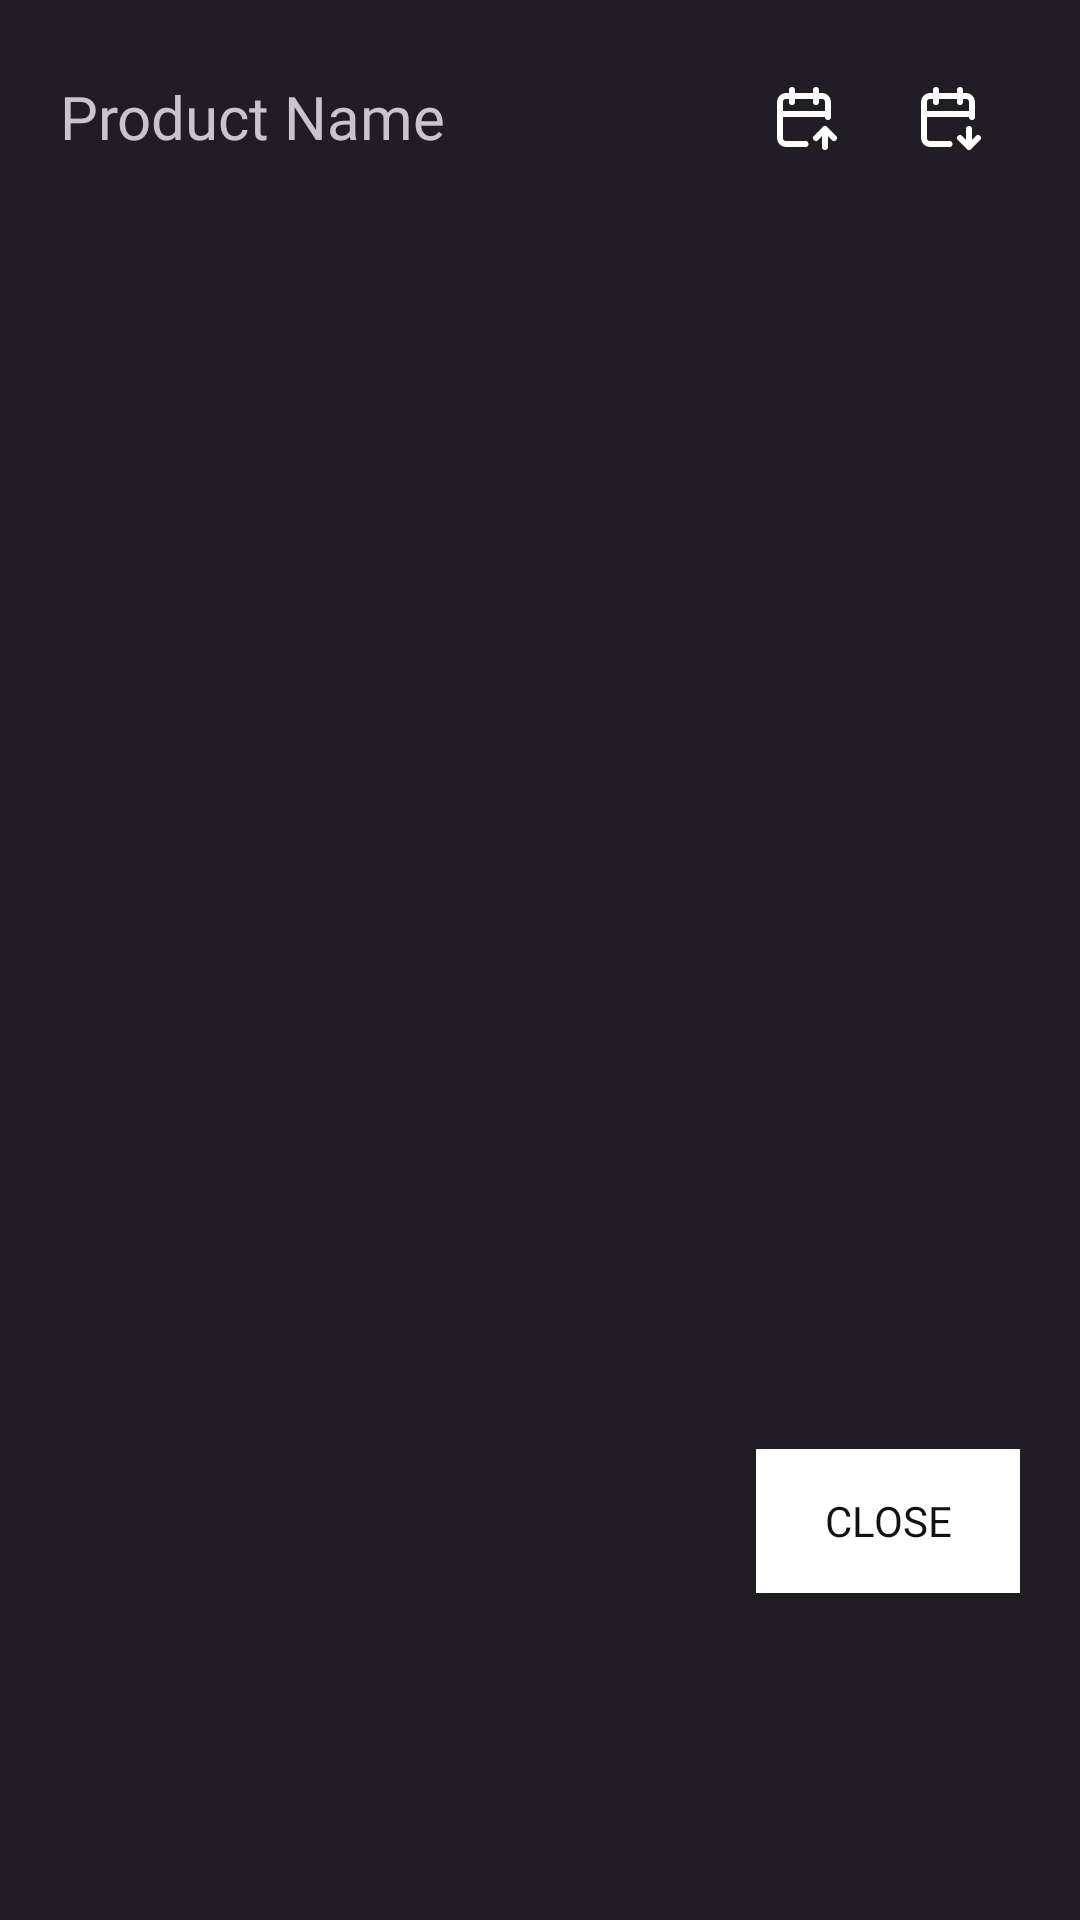

Locate icon controls on the screen. Image size 1080 x 1920, boxes as (x1, y1, x2, y2).
calendar down: (921, 87, 981, 150)
calendar up: (777, 87, 837, 150)
